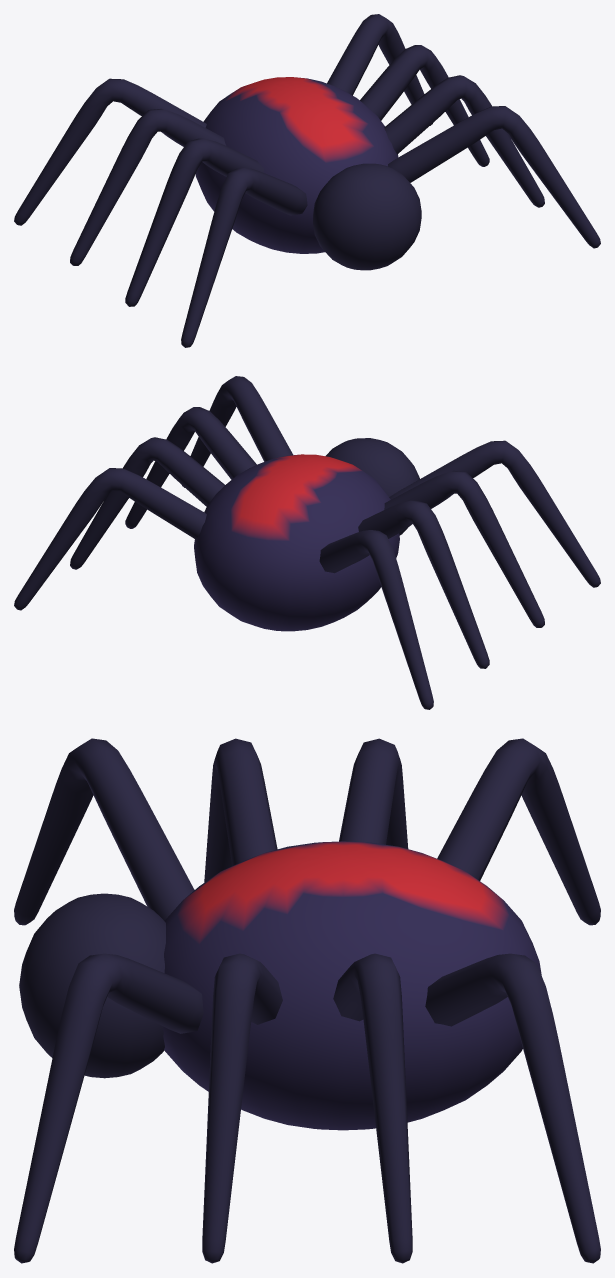
The model's file is one_spider.glb.
3 renders of one model, top to bottom at view 1: azimuth 30°, elevation 25°; view 2: azimuth 150°, elevation 25°; view 3: azimuth 270°, elevation 25°, orthographic. The views are drawn at different scales.
Visible parts, largest first — view 1: one_spider; view 2: one_spider; view 3: one_spider.
Boxes of the visible parts, x1,y1,x2,y2 form: one_spider: [14, 14, 600, 347]; one_spider: [14, 376, 600, 709]; one_spider: [14, 738, 600, 1263].
Size of the model in its own units: 0.3437 by 0.1214 by 0.2459.
